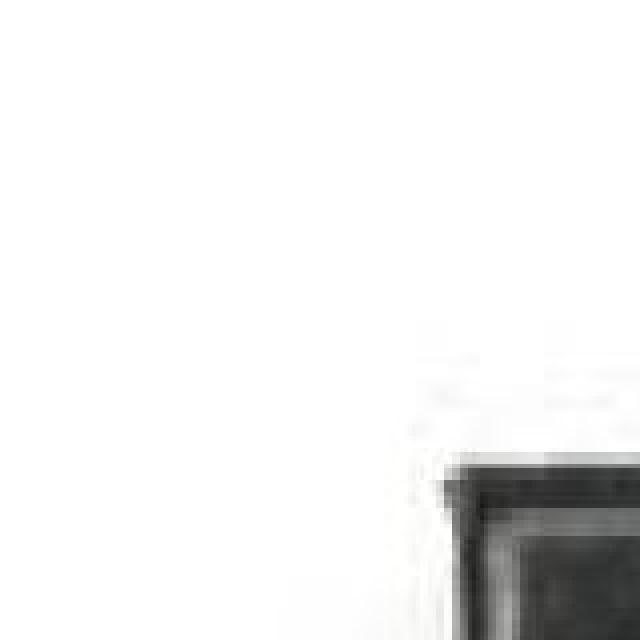transistor: (452, 104, 640, 640)
